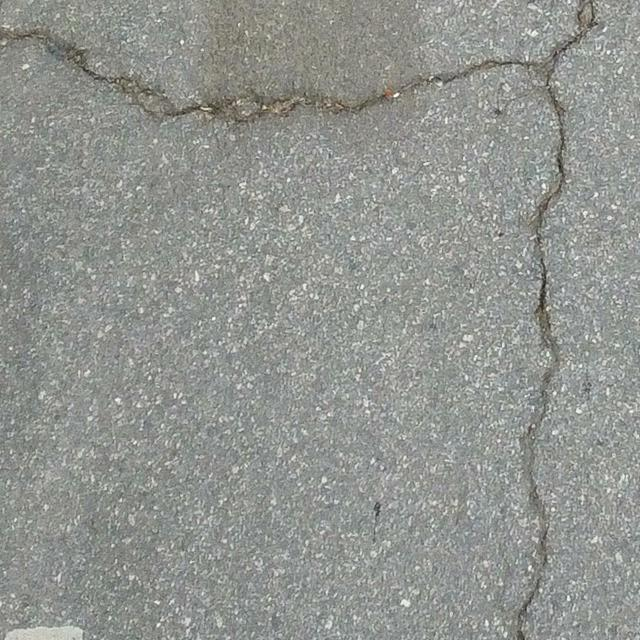LongitudinalCrack: (513, 2, 596, 640)
TransverseCrack: (1, 27, 551, 126)
